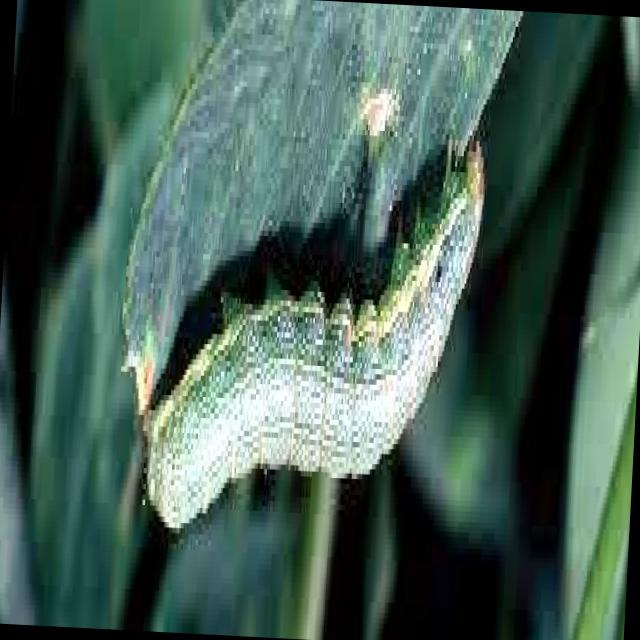Armyworm: (106, 94, 510, 573)
